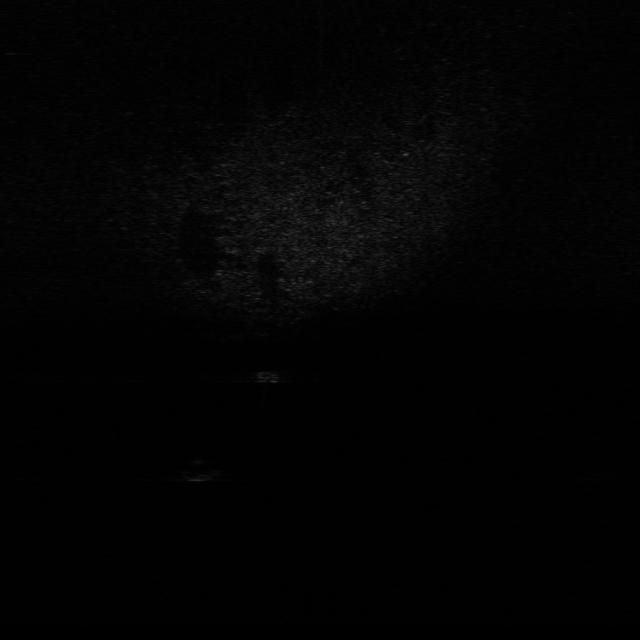ball: (184, 459, 224, 484)
cube: (253, 365, 287, 386)
